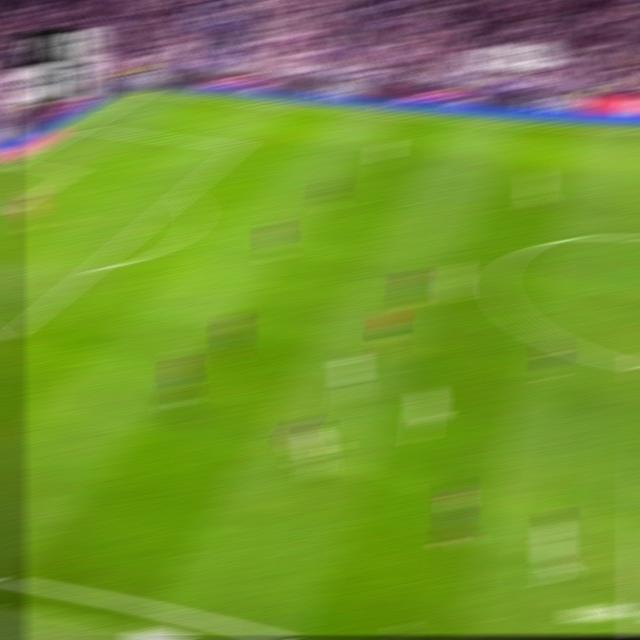bigarea_top_inner: (228, 140, 246, 152)
bigarea_top_outter: (74, 121, 94, 132)
bottom_arc_area_intersection: (83, 259, 105, 276)
corner: (138, 88, 157, 96)
halfcircle_bottom: (631, 352, 640, 378)
smallarea_top_inner: (62, 168, 79, 176)
top_arc_area_intersection: (172, 187, 192, 200)
